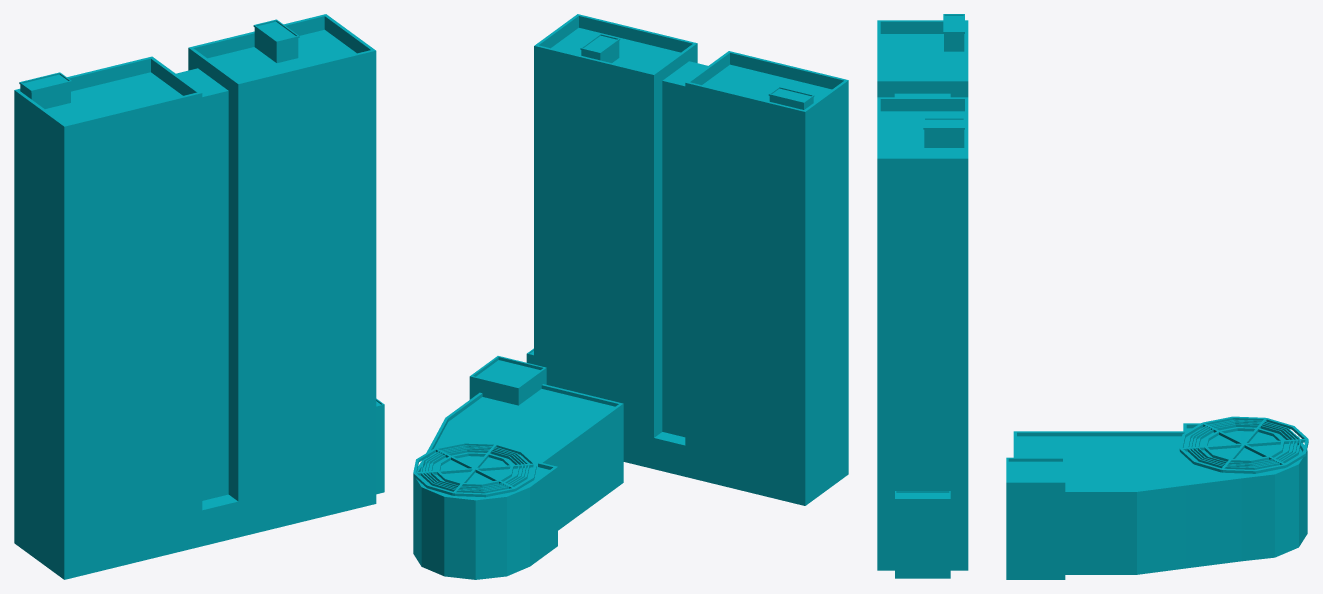
Rendered from zonghe.fbx.
3 renders of one model, left to right at view 1: azimuth 30°, elevation 25°; view 2: azimuth 150°, elevation 25°; view 3: azimuth 270°, elevation 25°, orthographic. The views are drawn at different scales.
Parts seen in each view (by area): view 1: 综合楼; view 2: 综合楼; view 3: 综合楼.
Boxes of the visible parts, left/top/right/bottom form: 综合楼: left=14, top=14, right=384, bottom=579; 综合楼: left=413, top=14, right=848, bottom=579; 综合楼: left=877, top=14, right=1308, bottom=579.
Bounding box in the file's own units: 30.84 × 40.91 × 38.09.
